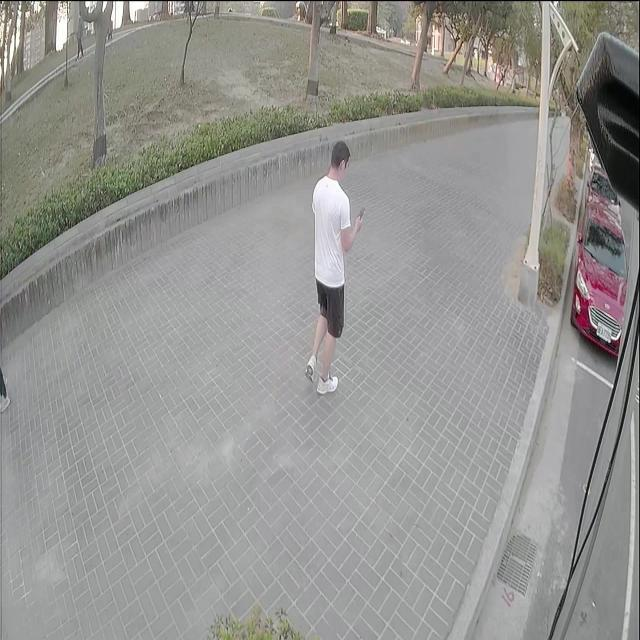person: (304, 143, 362, 393)
